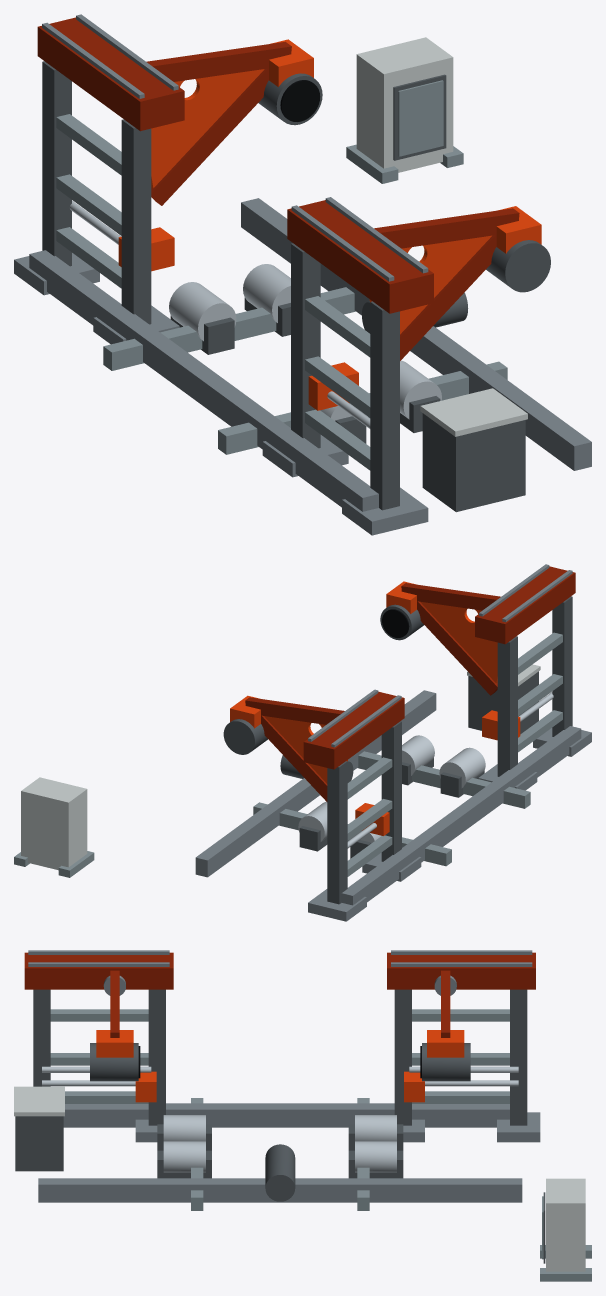
The model's file is wiping_station.dae.
3 renders of one model, top to bottom at view 1: azimuth 30°, elevation 25°; view 2: azimuth 150°, elevation 25°; view 3: azimuth 270°, elevation 25°, orthographic. The views are drawn at different scales.
Parts seen in each view (by area): view 1: wiping_station; view 2: wiping_station; view 3: wiping_station.
Part boxes in pixels (left/top/right/bottom): wiping_station: left=14, top=14, right=591, bottom=535; wiping_station: left=14, top=564, right=591, bottom=921; wiping_station: left=14, top=950, right=591, bottom=1281.
Size of the model in its own units: 3.23 by 4.65 by 1.6.
